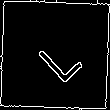L_NW: (26, 26, 84, 84)
